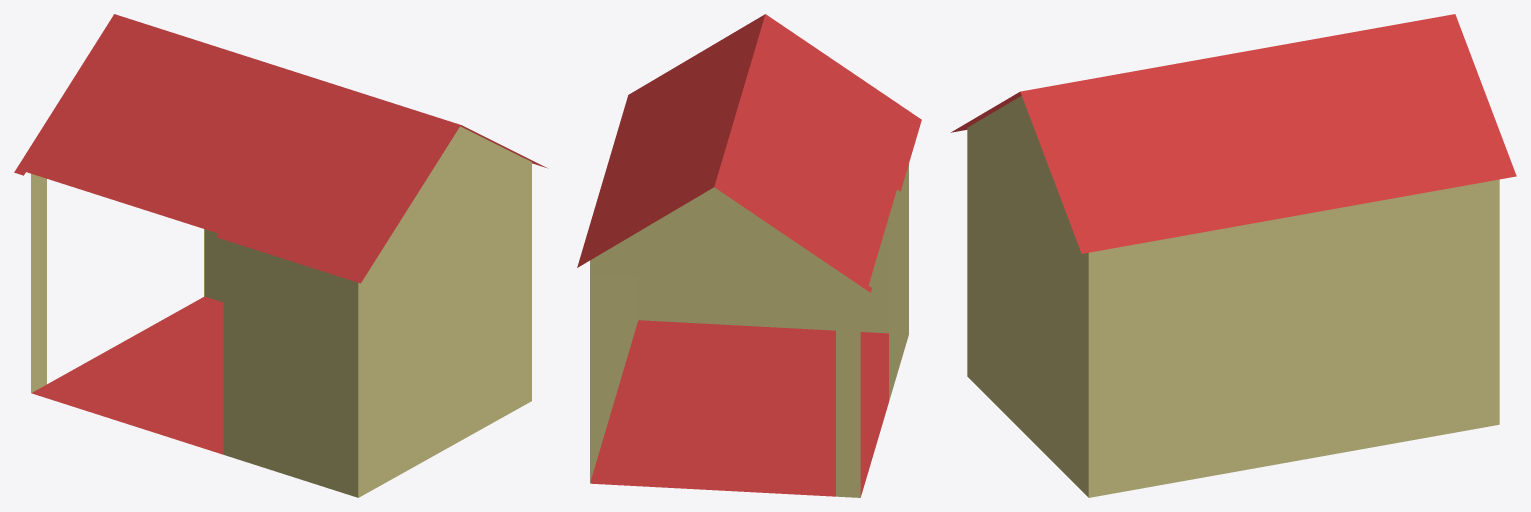
3 views of the same model, side by side, from view 1: azimuth 30°, elevation 25°; view 2: azimuth 150°, elevation 25°; view 3: azimuth 270°, elevation 25° (orthographic). The views are drawn at different scales.
Size of the model in its own units: 18.71 by 21.4 by 14.68.
